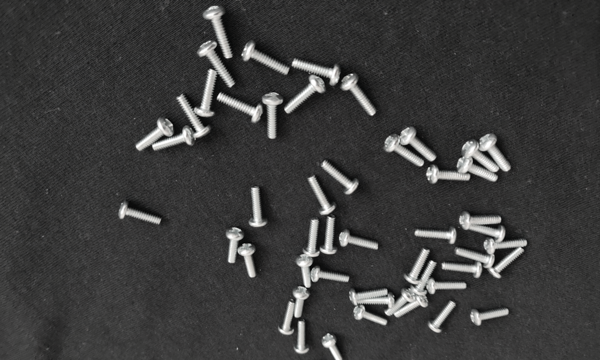shortscrew: (197, 42, 236, 87), (176, 94, 213, 139), (203, 5, 233, 60), (284, 75, 326, 114), (340, 73, 377, 116), (242, 42, 290, 75), (134, 117, 175, 152), (217, 93, 264, 123), (384, 133, 425, 167), (399, 126, 437, 162), (321, 160, 359, 195), (479, 132, 512, 172), (292, 60, 342, 86), (462, 139, 499, 173), (193, 69, 218, 118), (307, 174, 336, 215), (488, 247, 524, 280), (152, 126, 197, 152), (118, 202, 163, 227), (458, 157, 498, 182), (339, 228, 379, 252), (405, 248, 430, 285), (428, 300, 456, 333), (454, 247, 495, 269), (412, 259, 437, 295), (264, 92, 283, 139), (427, 165, 471, 184), (386, 289, 416, 316), (470, 306, 509, 326), (248, 187, 267, 227), (353, 306, 389, 327), (415, 227, 457, 245), (484, 237, 528, 254), (442, 261, 483, 279), (460, 213, 502, 230), (319, 216, 337, 255), (395, 296, 428, 317), (303, 219, 321, 257), (426, 278, 467, 294), (238, 244, 257, 278), (296, 254, 315, 288), (278, 301, 296, 336), (227, 227, 244, 264), (312, 267, 350, 283), (292, 287, 311, 318), (293, 320, 310, 354), (471, 226, 505, 243), (322, 333, 343, 360)
